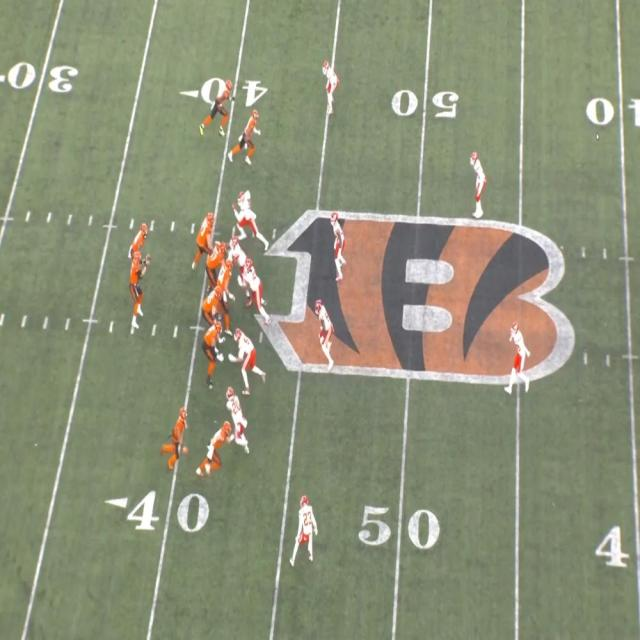db: (296, 494, 317, 563), (470, 151, 487, 215), (227, 387, 246, 442), (510, 326, 528, 382), (319, 61, 337, 111)
lb: (315, 300, 338, 355), (328, 214, 345, 276)
qb: (130, 251, 144, 335)
skill: (167, 404, 189, 470), (202, 422, 226, 482), (237, 112, 260, 164), (207, 83, 232, 130), (132, 224, 148, 260)
